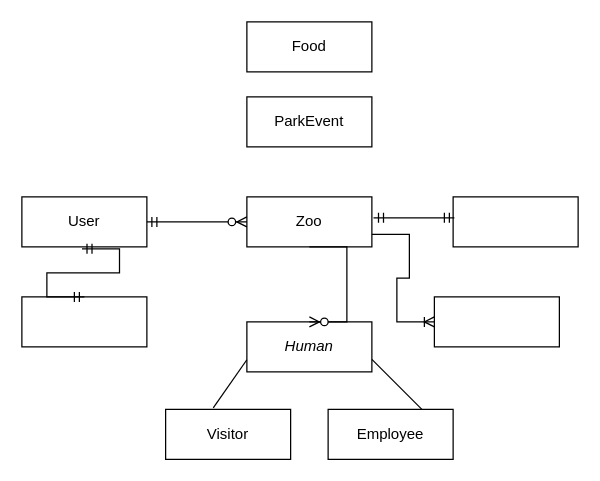
This 600x481 diagram has some shape labels left out. Each missing label, with the centre of its shape:
Cash: (84,321)
Dinossaur: (496,321)
FoodStock: (515,221)
